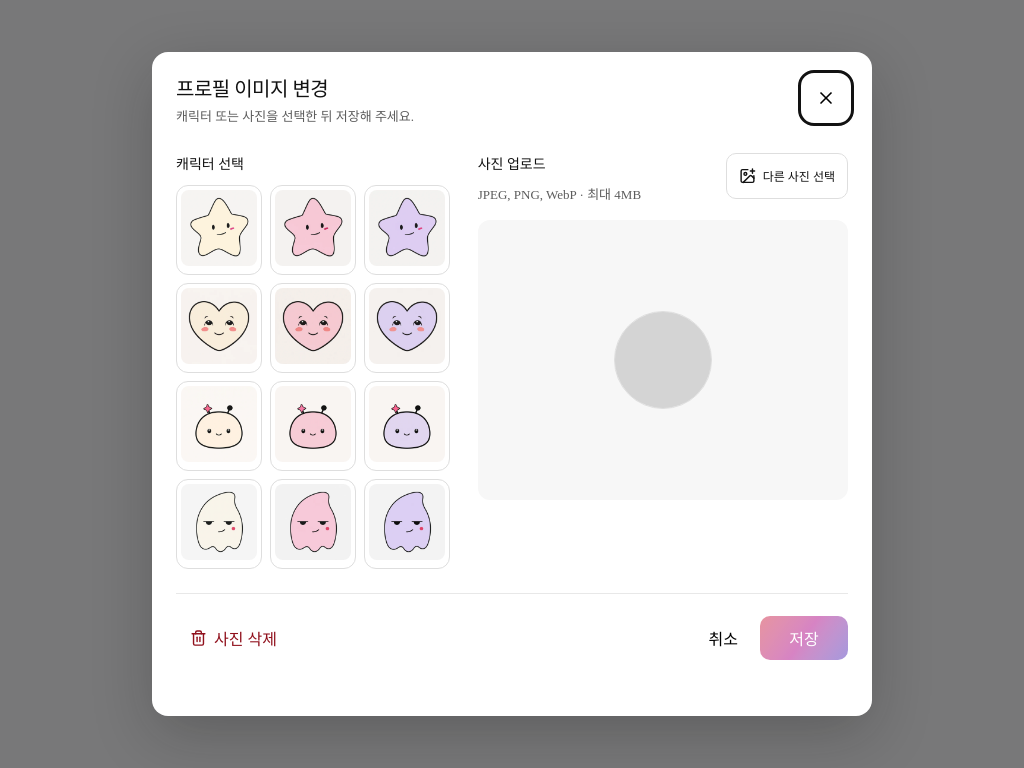
Test: avatar editor › refreshes on a stale write while preserving the draft and only offers delete for a stored photo
Click the button "사진 삭제". click: (233, 638)
box: x1=176 y1=616 x2=291 y2=660
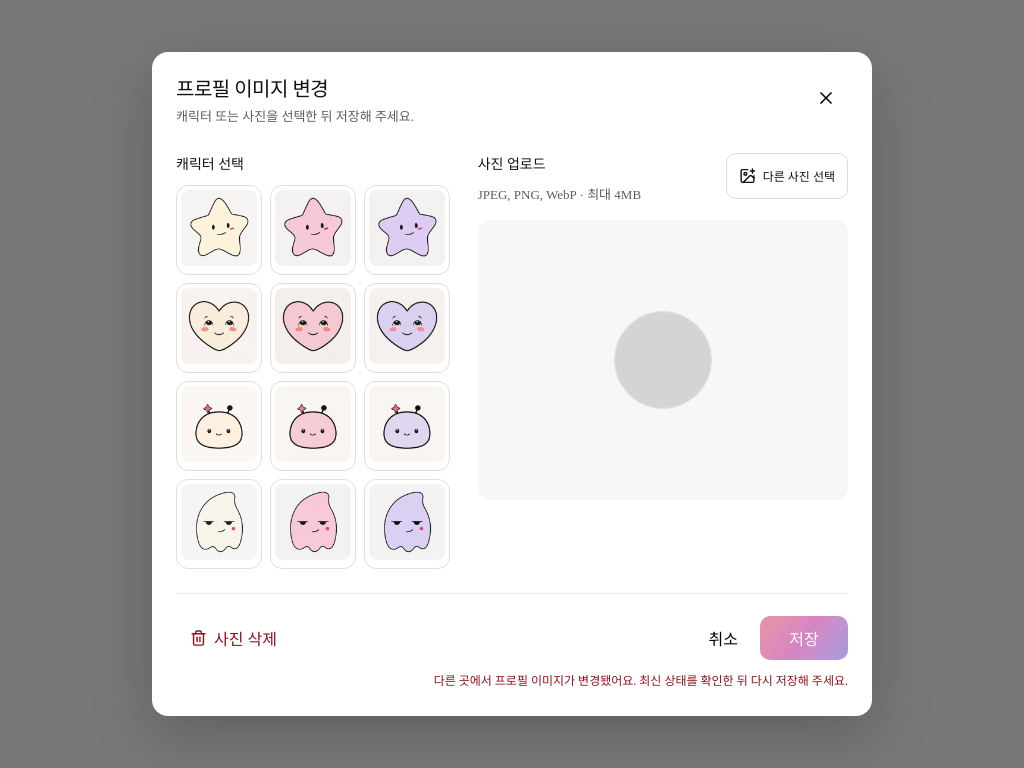
expect the text "다른 곳에서 프로필 이미지가 변경됐어요. 최신 상태를 확인한 뒤 다시 저장해 주세요." is shown: met, box x1=434 y1=674 x2=848 y2=688
